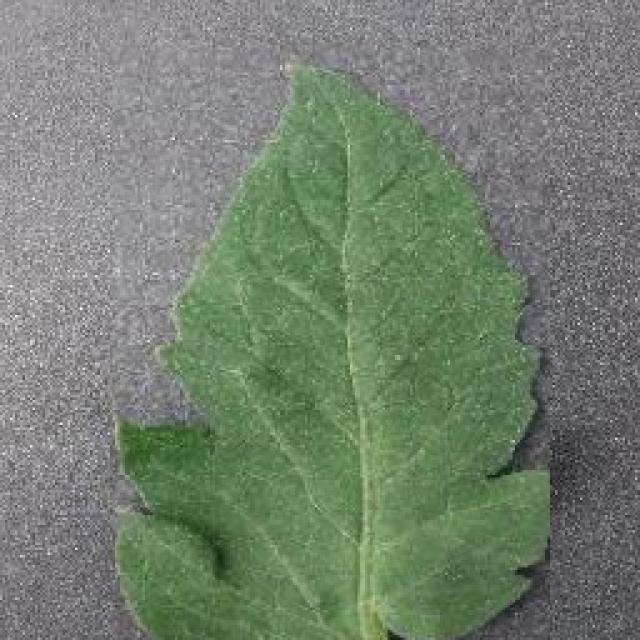Healthy: (110, 42, 550, 640)
